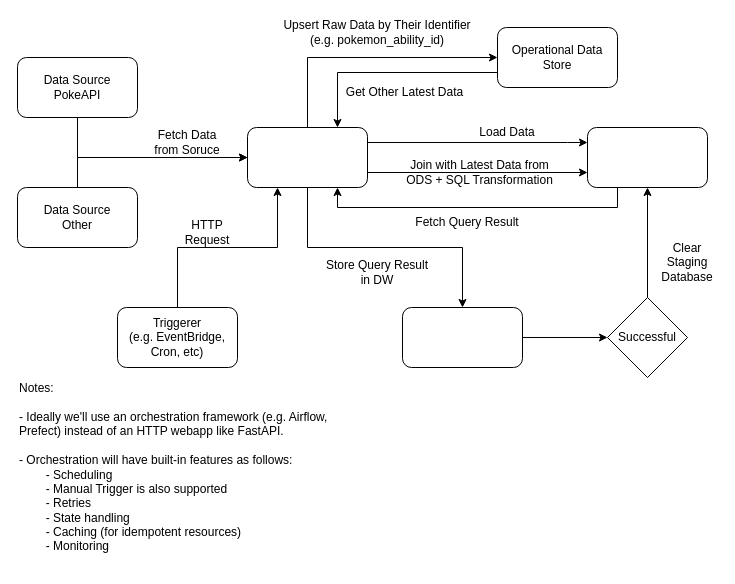
This 735x584 diagram has some shape labels left out. Here are the shapes that lost their labels. From the top down, the centre of each, then its label:
At (x=307, y=157): "FastAPI".
At (x=647, y=157): "Staging Database".
At (x=462, y=337): "Datawarehouse".
